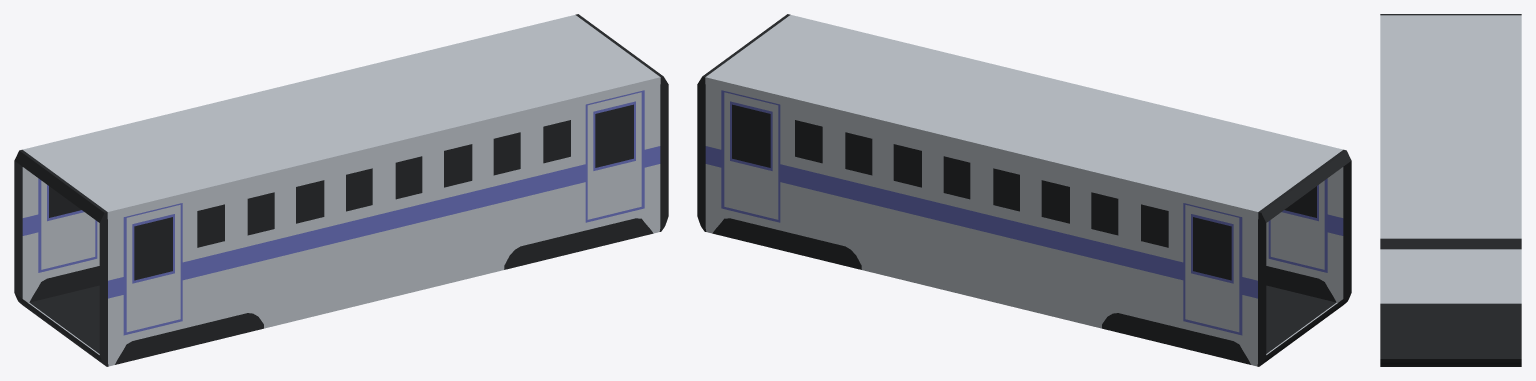
Rendered from White_Train_Body_01.fbx.
3 renders of one model, left to right at view 1: azimuth 30°, elevation 25°; view 2: azimuth 150°, elevation 25°; view 3: azimuth 270°, elevation 25°, orthographic. The views are drawn at different scales.
Visible parts, largest first — view 1: White_Train_Body_01; view 2: White_Train_Body_01; view 3: White_Train_Body_01.
Boxes of the visible parts, <box> form: White_Train_Body_01: <box>14,14,668,366</box>; White_Train_Body_01: <box>697,14,1351,366</box>; White_Train_Body_01: <box>1380,14,1521,366</box>.
Size of the model in its own units: 577 by 150 by 150.
